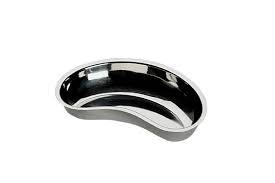Kidney Tray: (56, 54, 209, 144)
